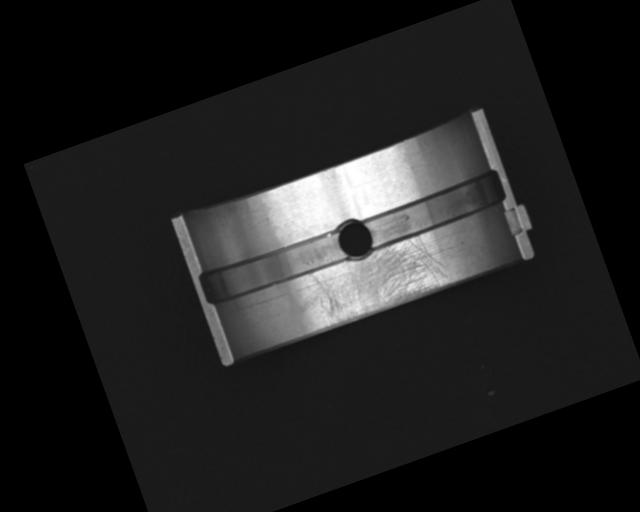gap: (198, 224, 350, 310), (361, 170, 508, 248)
hole: (332, 213, 376, 264)
scratch: (298, 229, 452, 332)
